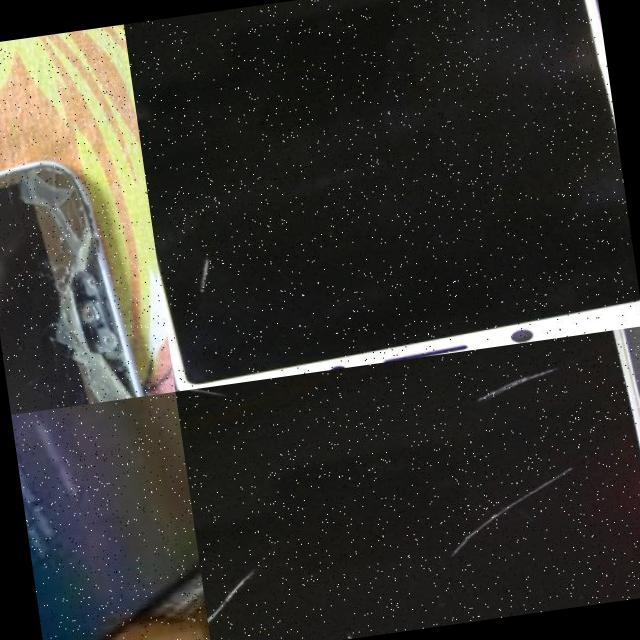scratch: (426, 473, 585, 568), (201, 571, 261, 640), (467, 371, 558, 410), (172, 256, 215, 310)
screen crack: (0, 139, 152, 415)
